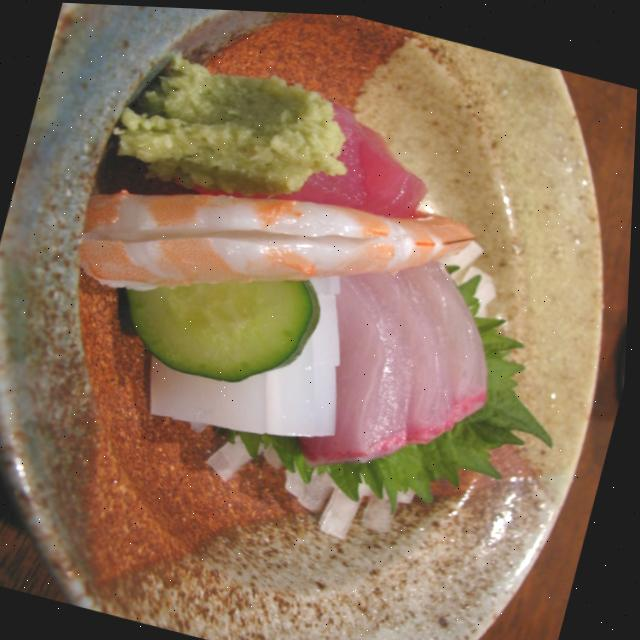刺身生食: (0, 10, 621, 584)
